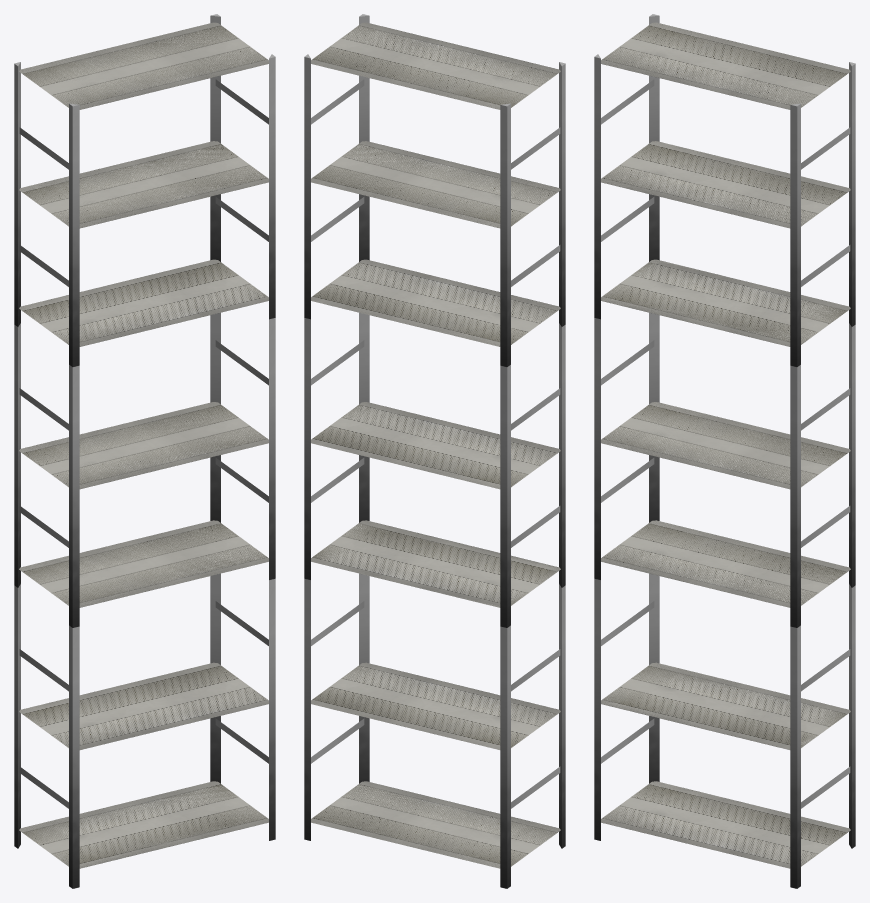
The model's file is Wall_Rack.fbx.
3 views of the same model, side by side, from view 1: azimuth 30°, elevation 25°; view 2: azimuth 150°, elevation 25°; view 3: azimuth 330°, elevation 25° (orthographic).
Visible parts, largest first — view 1: Wall_Rack_1; view 2: Wall_Rack_1; view 3: Wall_Rack_1.
Part boxes in pixels (left/top/right/bottom): Wall_Rack_1: left=14, top=14, right=275, bottom=888; Wall_Rack_1: left=304, top=14, right=565, bottom=888; Wall_Rack_1: left=594, top=14, right=855, bottom=888.
Size of the model in its own units: 200 by 737 by 100.
